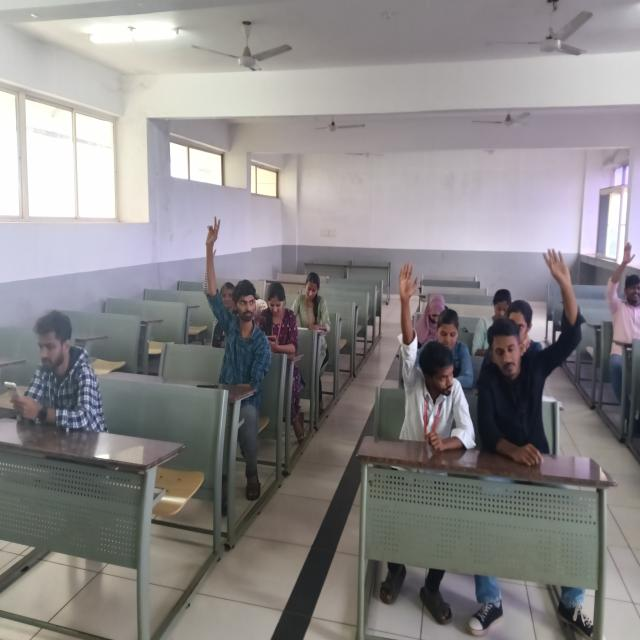Hand Rising: (479, 223, 592, 459), (386, 246, 468, 482), (188, 207, 280, 374), (600, 209, 640, 393), (199, 247, 238, 329)
Reading: (296, 261, 347, 341)
Using Phone: (0, 265, 123, 458), (254, 269, 305, 370)
